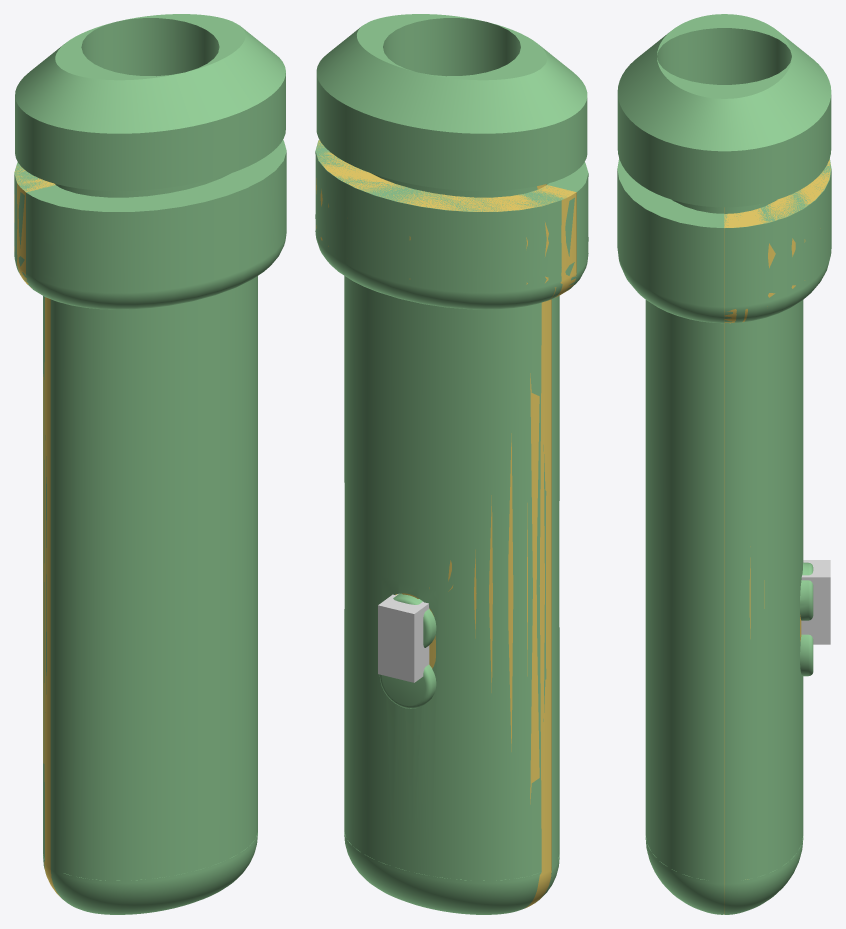
3 views of the same model, side by side, from view 1: azimuth 30°, elevation 25°; view 2: azimuth 150°, elevation 25°; view 3: azimuth 270°, elevation 25° (orthographic). The views are drawn at different scales.
Parts seen in each view (by area): view 1: FACE_ARRIERE, CHAPEAU_LOUPE, Lampe V3.005, FACE_AVANT; view 2: FACE_AVANT, CHAPEAU_LOUPE, Lampe V3.005, FACE_ARRIERE, Cube.001, BOUTON.001, BOUTON; view 3: FACE_ARRIERE, FACE_AVANT, CHAPEAU_LOUPE, Lampe V3.005, Cube.001, BOUTON, BOUTON.001.
Boxes of the visible parts, bbox=[...] form: FACE_ARRIERE: bbox=[26, 140, 286, 914]; CHAPEAU_LOUPE: bbox=[15, 14, 285, 190]; Lampe V3.005: bbox=[14, 166, 60, 897]; FACE_AVANT: bbox=[14, 162, 53, 873]; FACE_AVANT: bbox=[315, 140, 575, 914]; CHAPEAU_LOUPE: bbox=[316, 14, 587, 190]; Lampe V3.005: bbox=[316, 140, 576, 908]; FACE_ARRIERE: bbox=[537, 162, 588, 901]; Cube.001: bbox=[378, 594, 429, 682]; BOUTON.001: bbox=[379, 664, 436, 708]; BOUTON: bbox=[393, 593, 436, 647]; FACE_ARRIERE: bbox=[617, 158, 724, 914]; FACE_AVANT: bbox=[724, 158, 831, 914]; CHAPEAU_LOUPE: bbox=[617, 14, 831, 207]; Lampe V3.005: bbox=[724, 159, 830, 914]; Cube.001: bbox=[801, 560, 830, 644]; BOUTON: bbox=[800, 562, 813, 620]; BOUTON.001: bbox=[800, 634, 813, 676].
Size of the model in its own units: 5.01 by 16.43 by 3.81.
